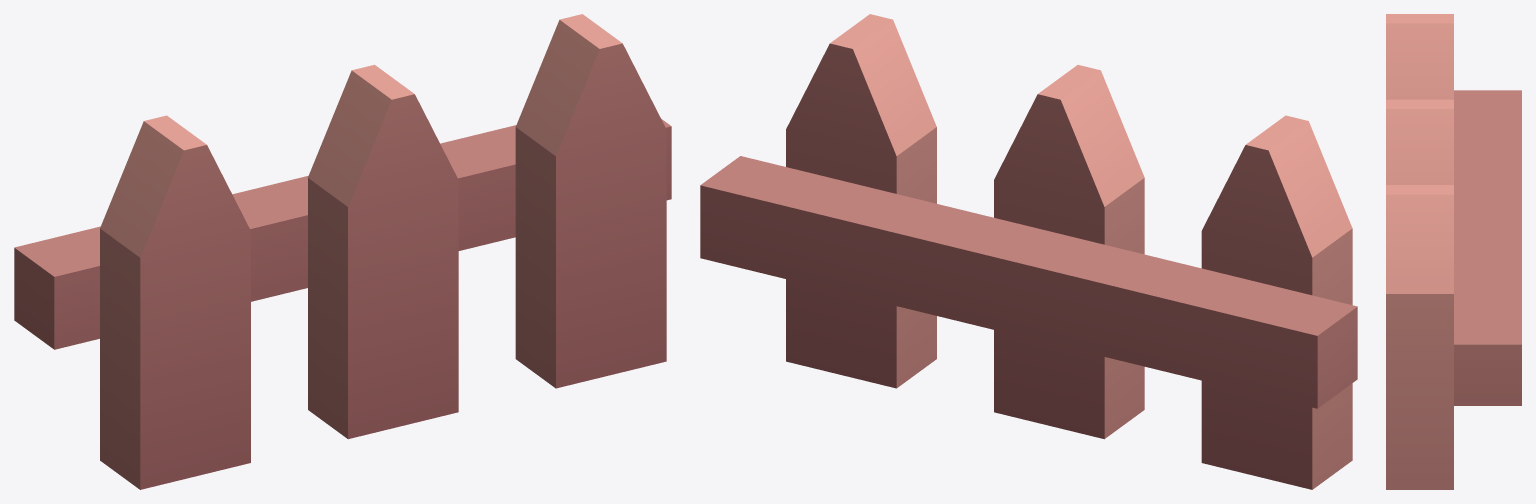
Rendered from Fence_3.fbx.
3 views of the same model, side by side, from view 1: azimuth 30°, elevation 25°; view 2: azimuth 150°, elevation 25°; view 3: azimuth 270°, elevation 25° (orthographic). The views are drawn at different scales.
Parts seen in each view (by area): view 1: Fence_3; view 2: Fence_3; view 3: Fence_3.
Boxes of the visible parts, x1,y1,x2,y2 form: Fence_3: (14,14,671,489); Fence_3: (700,14,1357,489); Fence_3: (1386,14,1521,489).
Bounding box in the file's own units: 322 × 164 × 72.63.
